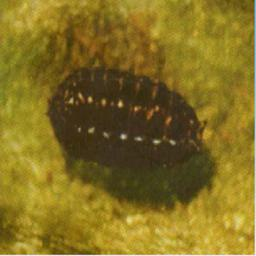liriomyza: (45, 66, 203, 171)
